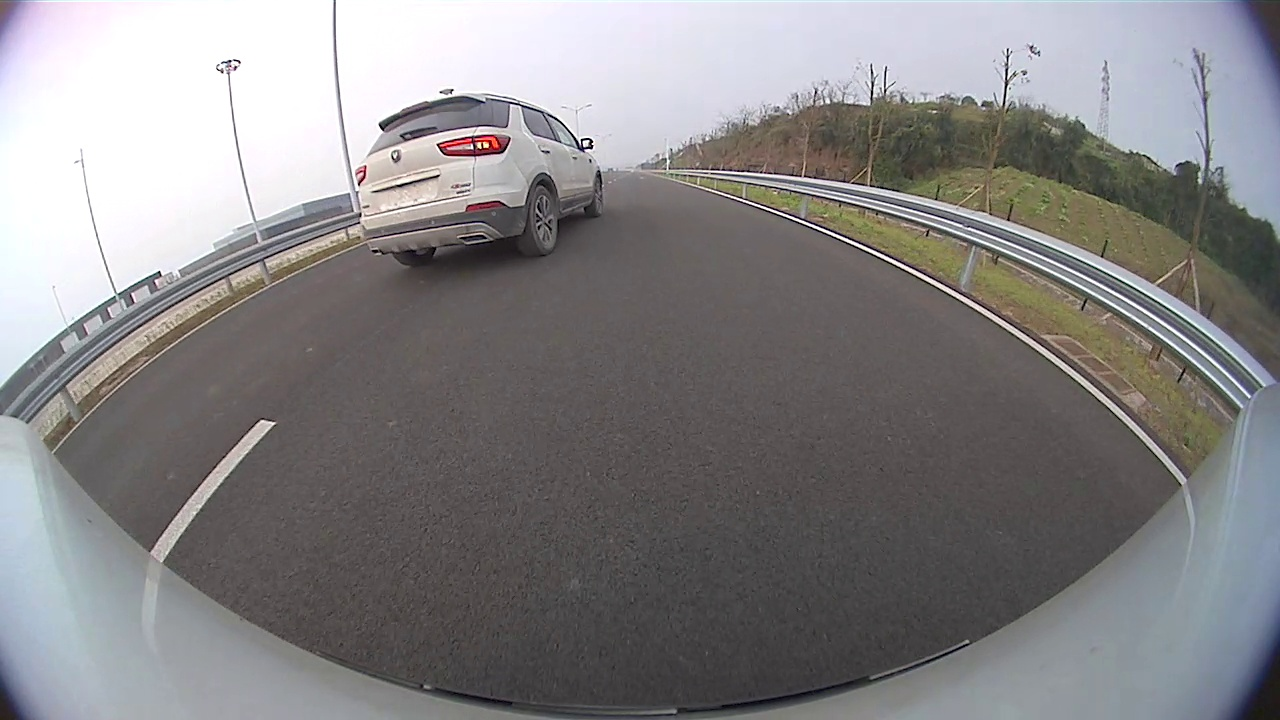car: (354, 90, 607, 269)
front: (583, 166, 604, 221)
rear: (517, 184, 560, 259)
